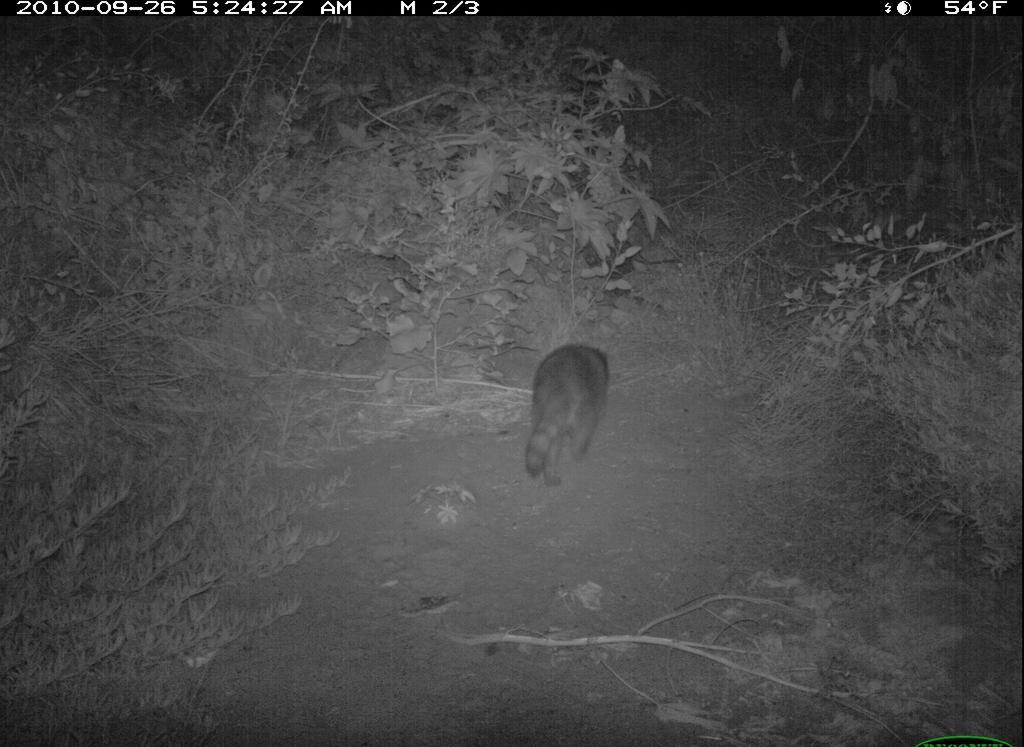raccoon: (515, 337, 625, 498)
